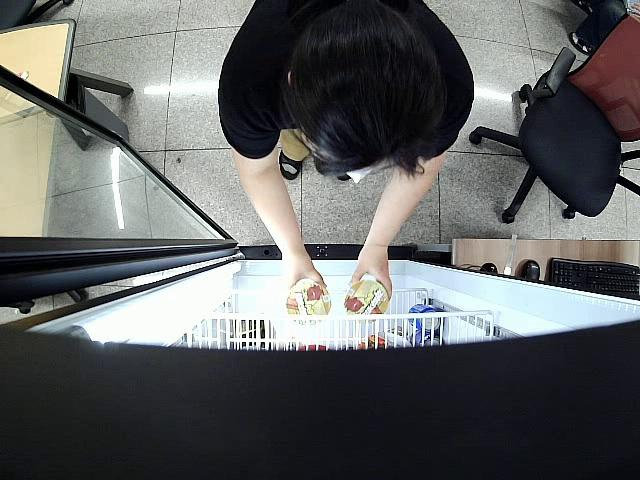00_hand: (347, 250, 393, 301), (280, 254, 328, 291)
04_chapagetti_S: (286, 279, 331, 325), (344, 279, 389, 323)
